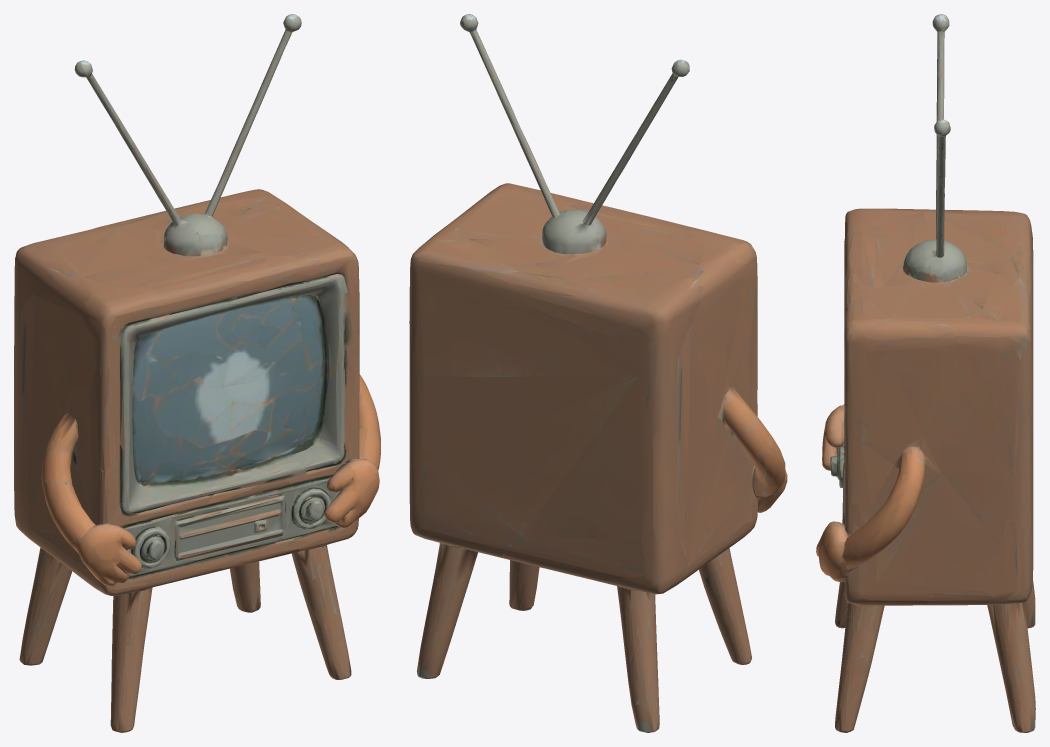
Rendered from old_tv.glb.
3 renders of one model, left to right at view 1: azimuth 30°, elevation 25°; view 2: azimuth 150°, elevation 25°; view 3: azimuth 270°, elevation 25°, orthographic. The views are drawn at different scales.
Parts seen in each view (by area): view 1: Mesh_0; view 2: Mesh_0; view 3: Mesh_0.
Part boxes in pixels (box(x1,y1,x2,y2)): Mesh_0: box(14, 14, 380, 732); Mesh_0: box(409, 14, 787, 732); Mesh_0: box(816, 14, 1035, 732).
Size of the model in its own units: 1.05 by 1.9 by 0.6159.
1 material, 1 textured.
